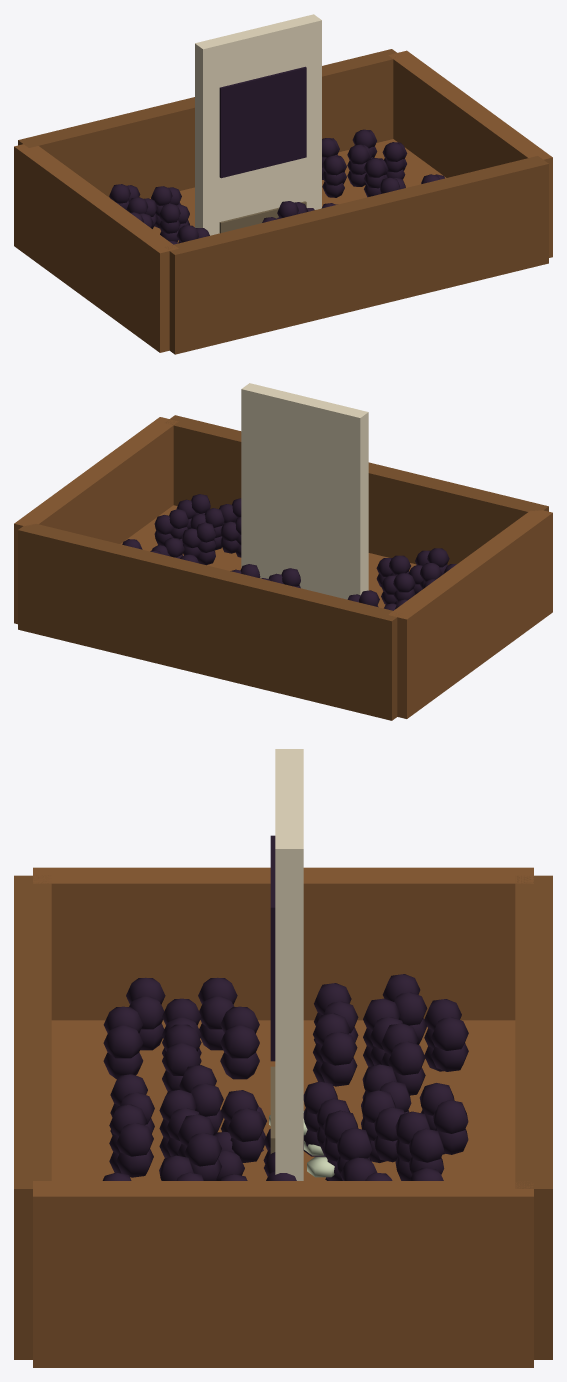
File: Fruit_Blackberry.fbx
3 renders of one model, top to bottom at view 1: azimuth 30°, elevation 25°; view 2: azimuth 150°, elevation 25°; view 3: azimuth 270°, elevation 25°, orthographic. The views are drawn at different scales.
Visible parts, largest first — view 1: Fruit_Blackberry__Stack, Fruit_Blackberry__Seed; view 2: Fruit_Blackberry__Stack, Fruit_Blackberry__Seed; view 3: Fruit_Blackberry__Stack, Fruit_Blackberry__Seed, Fruit_Blackberry, Fruit_Blackberry__Rotten.
Part boxes in pixels (x1,y1,x2,y2): Fruit_Blackberry__Stack: (14, 49, 552, 354); Fruit_Blackberry__Seed: (195, 14, 321, 235); Fruit_Blackberry__Stack: (14, 415, 552, 720); Fruit_Blackberry__Seed: (241, 383, 368, 599); Fruit_Blackberry__Stack: (14, 867, 552, 1367); Fruit_Blackberry__Seed: (270, 749, 303, 1180); Fruit_Blackberry: (214, 1106, 329, 1180); Fruit_Blackberry__Rotten: (269, 1111, 334, 1177).
Bounding box in the file's own units: 0.1651 × 0.09 × 0.1143.
